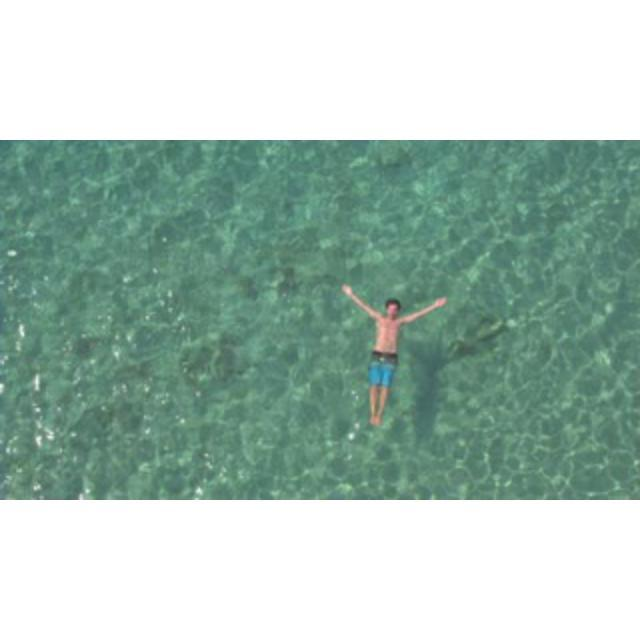human: (341, 280, 451, 430)
